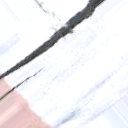crackTip: (1, 1, 112, 102)
